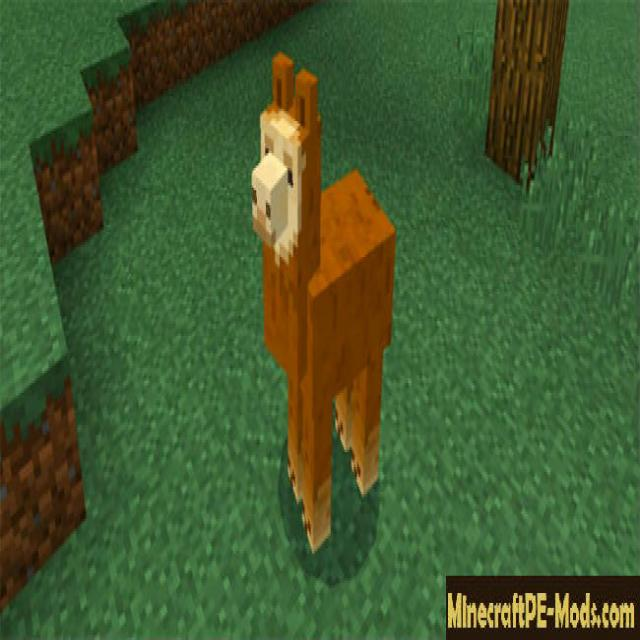Llama: (253, 48, 399, 552)
